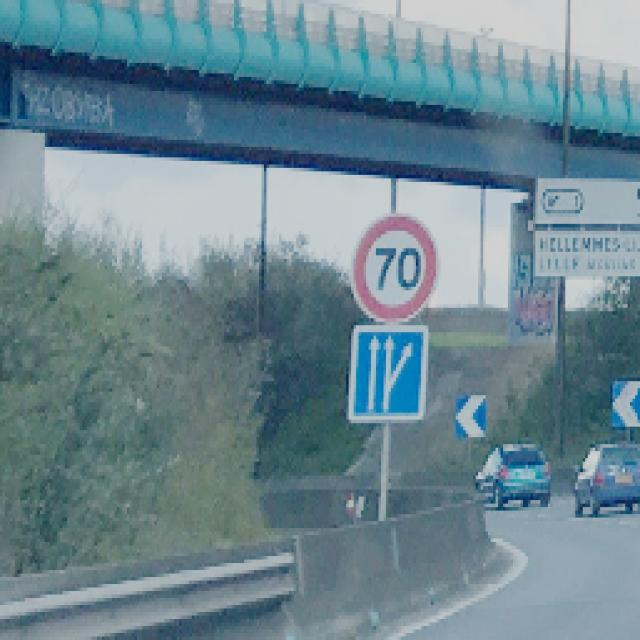speed_70: (352, 210, 441, 325)
